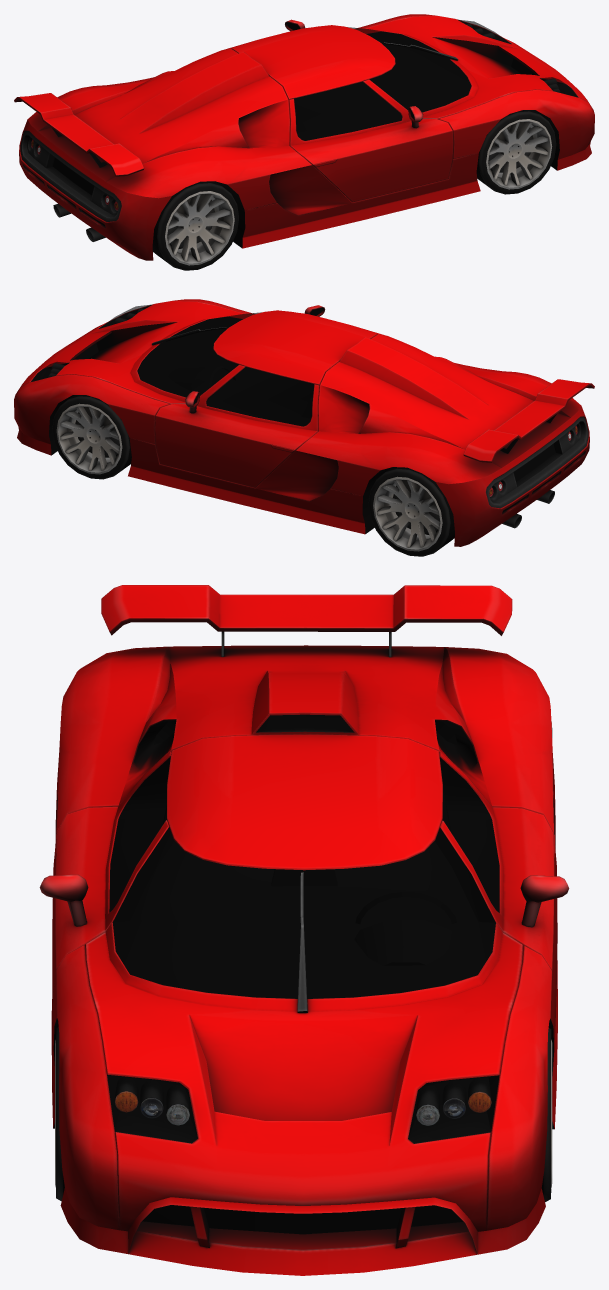
Rendered from sport.glb.
3 views of the same model, one above another, from view 1: azimuth 30°, elevation 25°; view 2: azimuth 150°, elevation 25°; view 3: azimuth 270°, elevation 25° (orthographic). The views are drawn at different scales.
Parts seen in each view (by area): view 1: Sport body_Body_0; view 2: Sport body_Body_0; view 3: Sport body_Body_0.
Boxes of the visible parts, x1=… form: Sport body_Body_0: x1=14, y1=14, x2=594, y2=270; Sport body_Body_0: x1=14, y1=299, x2=594, y2=556; Sport body_Body_0: x1=39, y1=585, x2=569, y2=1275.
Size of the model in its own units: 3.91 by 1.04 by 1.77.
Materials: 4 (3 with a texture image).
